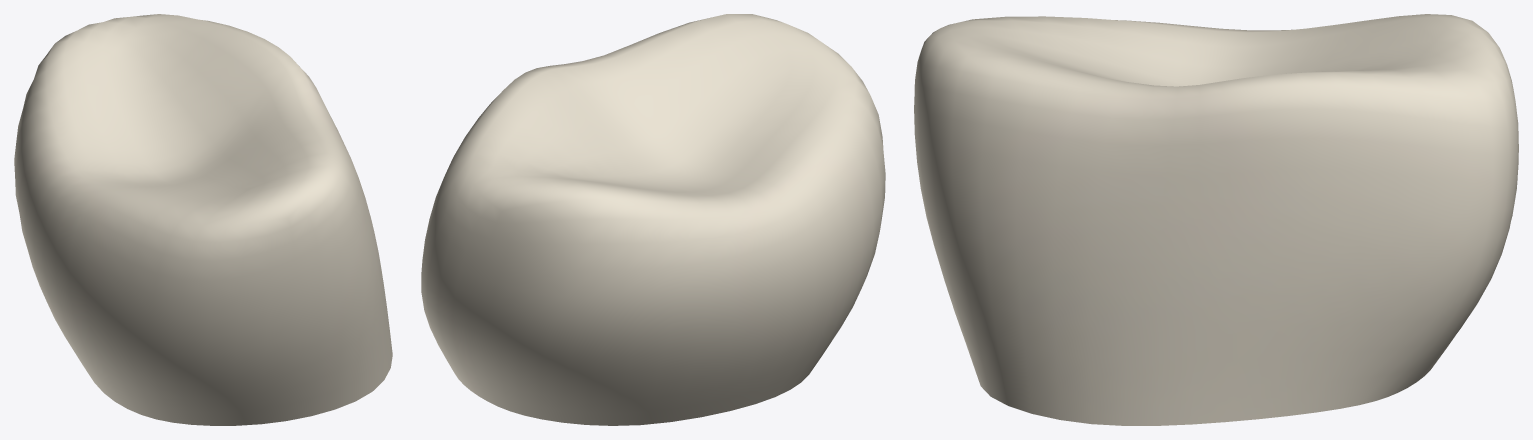
File: tooth.fbx
3 renders of one model, left to right at view 1: azimuth 30°, elevation 25°; view 2: azimuth 150°, elevation 25°; view 3: azimuth 270°, elevation 25°, orthographic. The views are drawn at different scales.
Parts seen in each view (by area): view 1: polySurface103; view 2: polySurface103; view 3: polySurface103.
Part boxes in pixels (left/top/right/bottom): polySurface103: left=14, top=14, right=392, bottom=425; polySurface103: left=421, top=14, right=885, bottom=425; polySurface103: left=914, top=14, right=1518, bottom=425.
Size of the model in its own units: 0.8951 by 0.7481 by 1.21.
1 material, 1 textured.
